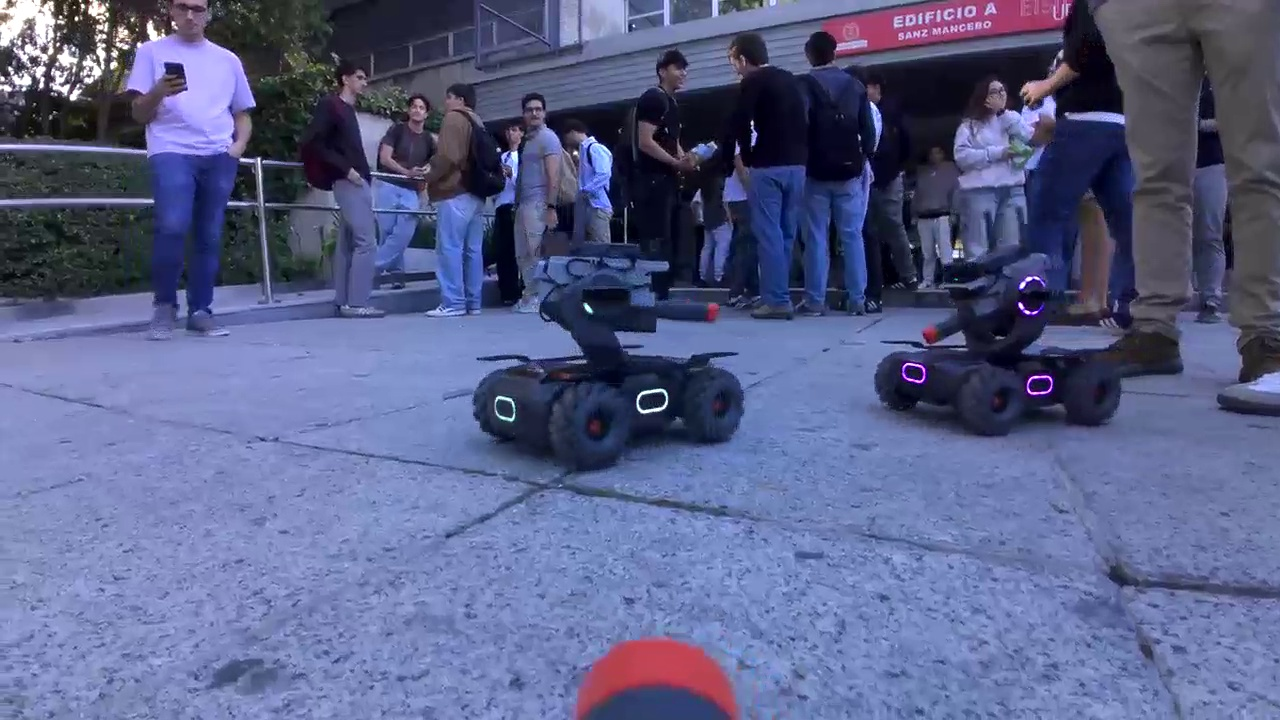robot: (472, 240, 748, 475), (875, 242, 1124, 439)
